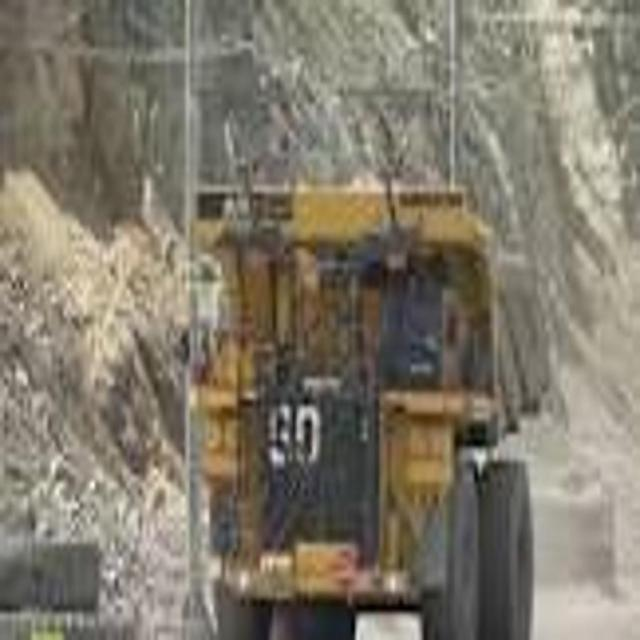dump_truck: (188, 169, 552, 640)
